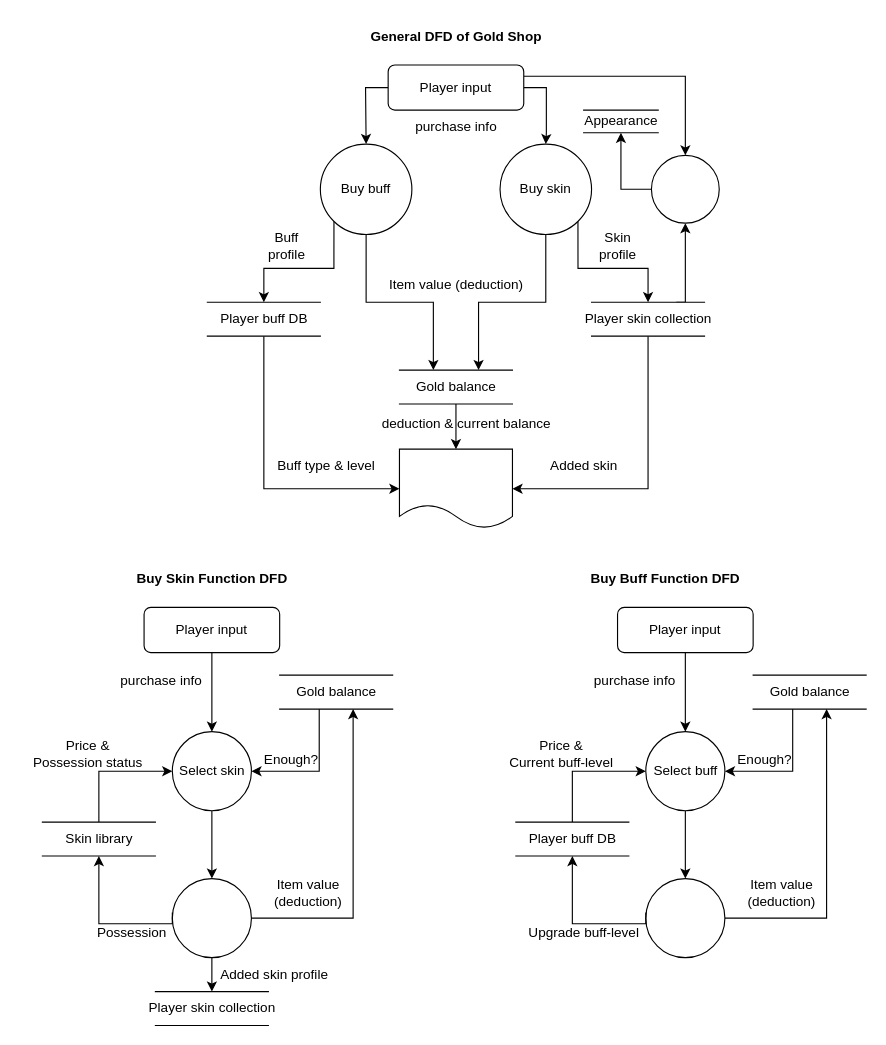
Some shapes in this 886 by 1045 pixel diagram are drawn without their labels. Here are the shapes that lost their labels. From the top down, the centre of each, then its label:
point (684, 188): Equip skin
point (455, 488): Display purchase result
point (211, 917): Purchase
point (685, 917): Upgrade
